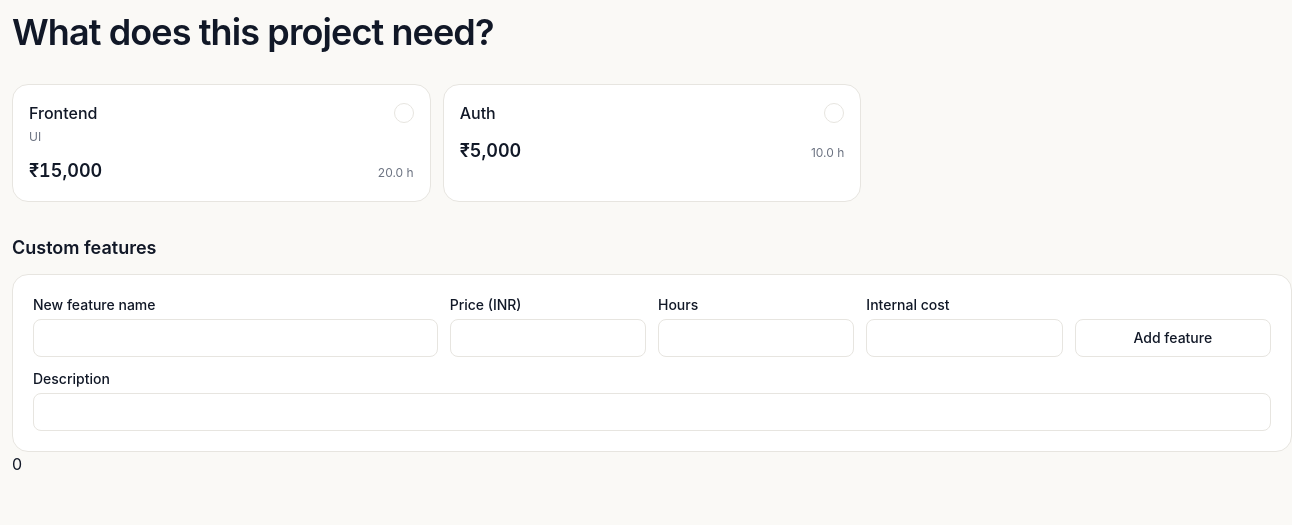
feature selection › updates the price immediately when features are selected and deselected
Check: the text with test id "total" reads "0", box x1=12 y1=454 x2=22 y2=474
Click the button "Frontend UI ₹15,000 20.0 h": (63, 113) x1=29 y1=101 x2=414 y2=185
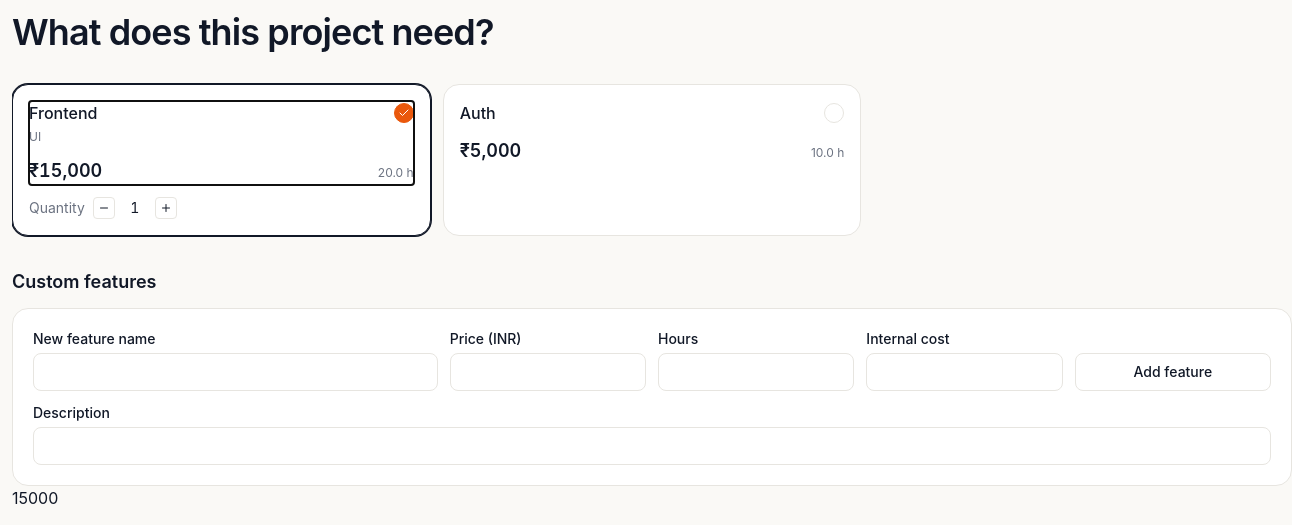
Check: the text with test id "total" reads "15000", box x1=12 y1=488 x2=58 y2=508
Click the button "Auth ₹5,000 10.0 h": (478, 113) x1=460 y1=101 x2=844 y2=165
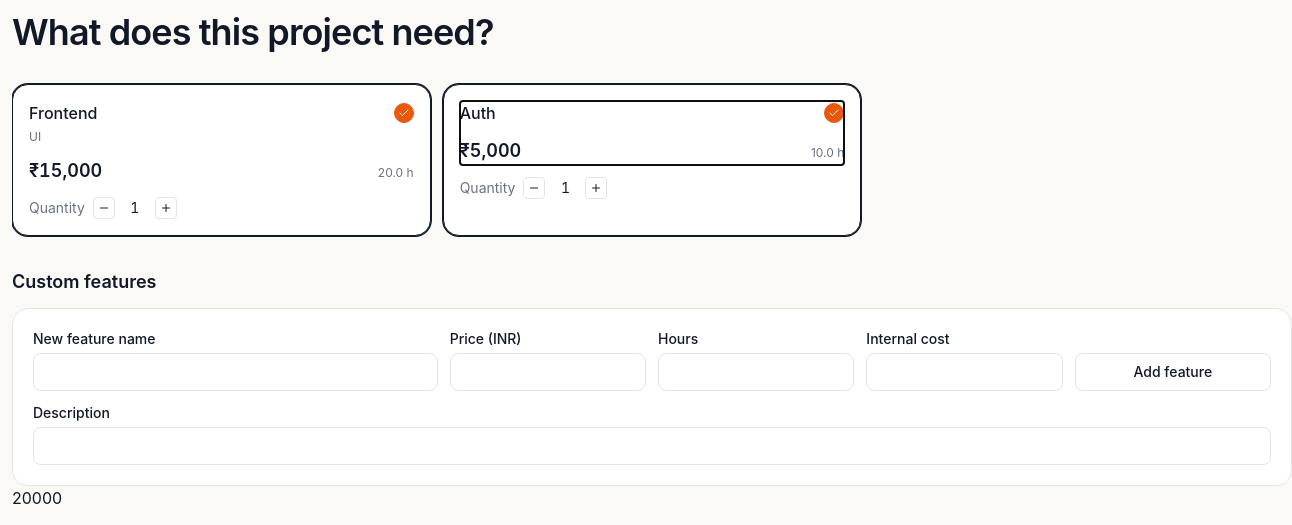
Check: the text with test id "total" reads "20000", box x1=12 y1=488 x2=62 y2=508
Click the button "Frontend UI ₹15,000 20.0 h": (63, 113) x1=29 y1=101 x2=414 y2=185
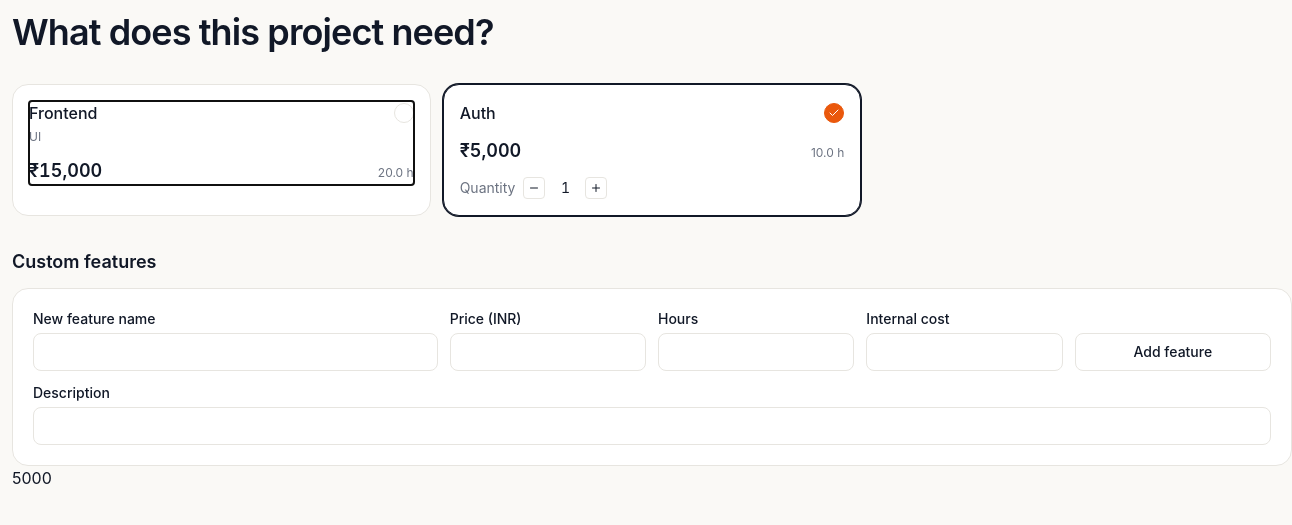
Check: the text with test id "total" reads "5000", box x1=12 y1=468 x2=52 y2=488
